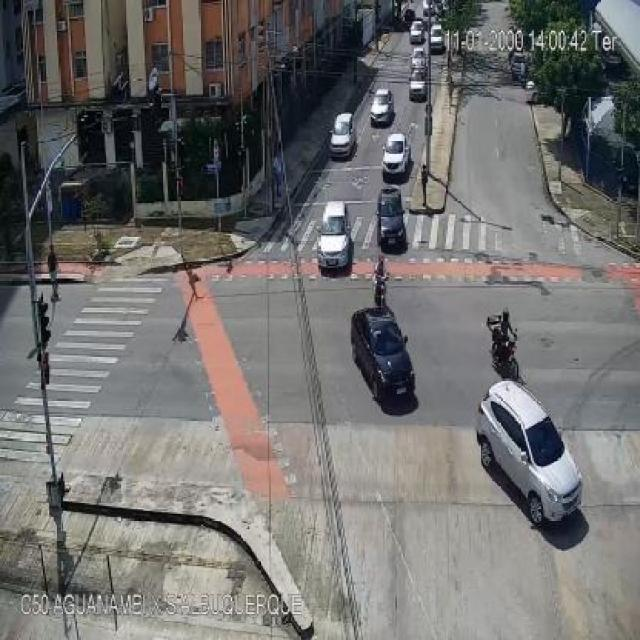Car: (477, 382, 582, 525), (350, 306, 416, 404), (316, 198, 356, 277), (376, 188, 407, 250), (328, 112, 356, 157), (382, 132, 409, 176), (369, 91, 394, 125), (510, 52, 528, 84), (428, 24, 444, 52), (409, 76, 427, 100), (409, 20, 425, 44), (410, 47, 426, 71), (410, 66, 426, 83)
Cycle: (486, 307, 520, 382), (373, 253, 389, 304)
